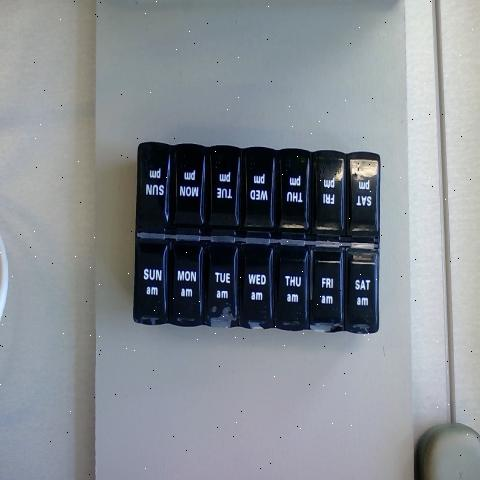FRI-am: (309, 251, 341, 330)
FRI-pm: (312, 157, 344, 230)
MON-am: (170, 247, 200, 327)
MON-pm: (171, 149, 205, 231)
PillBox: (121, 93, 390, 366)
SAT-am: (342, 250, 380, 333)
SAT-pm: (345, 158, 379, 232)
SUN-am: (136, 241, 168, 323)
SUN-pm: (138, 146, 170, 233)
THU-am: (273, 250, 308, 330)
THU-pm: (276, 153, 309, 232)
TUE-am: (203, 246, 237, 330)
TUE-pm: (209, 148, 238, 230)
WED-am: (238, 246, 271, 327)
WED-pm: (241, 153, 274, 233)
